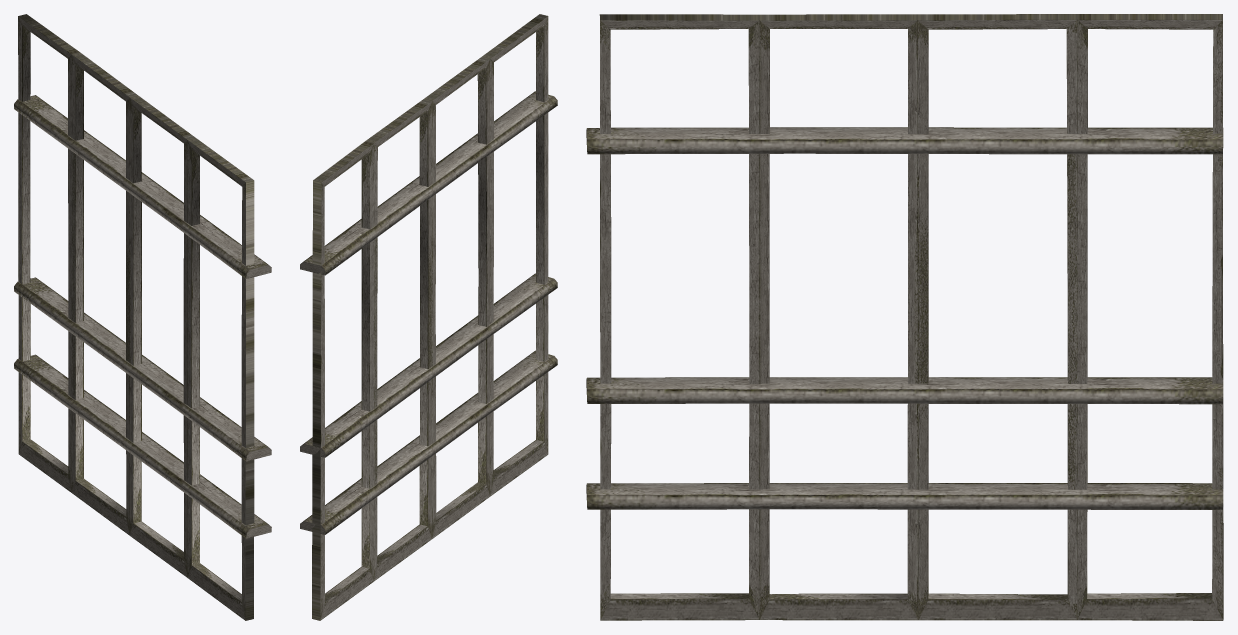
File: greenhouse_sides.fbx
3 renders of one model, left to right at view 1: azimuth 30°, elevation 25°; view 2: azimuth 150°, elevation 25°; view 3: azimuth 270°, elevation 25°, orthographic. The views are drawn at different scales.
Parts seen in each view (by area): view 1: greenhouse_sides; view 2: greenhouse_sides; view 3: greenhouse_sides.
Boxes of the visible parts, x1,y1,x2,y2 form: greenhouse_sides: (14, 14, 271, 620); greenhouse_sides: (300, 14, 557, 620); greenhouse_sides: (586, 14, 1223, 620).
Bounding box in the file's own units: 15.29 × 249 × 239.
